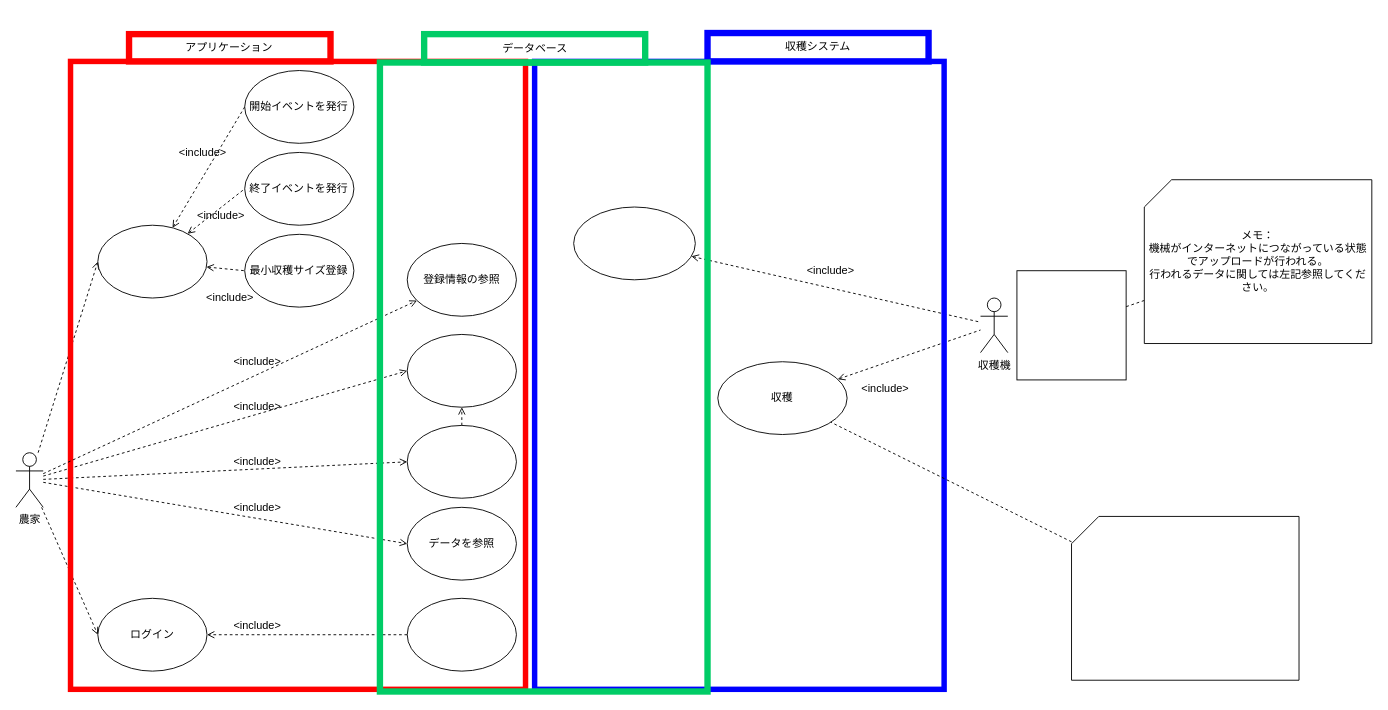
The diagram is 1388 pixels wide and 710 high, and some of its shapes have lost their labels. Here are the shapes that lost their labels. From the top down, the centre of each, then its label:
At point 152,261: "機械指示".
At point 634,243: "データアップロード".
At point 1071,325: "温度データ 湿度データ 収穫数 未収穫数 収穫写真 未収穫写真".
At point 461,370: "農耕地登録".
At point 461,461: "機械登録".
At point 1185,598: "メモ： 収穫機能の詳細については別途資料を参考にしてください。".
At point 461,634: "ユーザー情報を登録".
